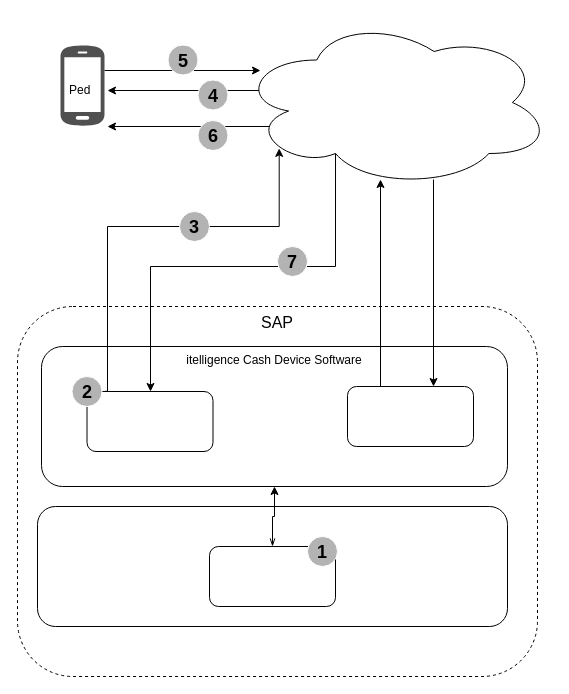
Some shapes in this 569 by 694 pixel diagram are drawn without their labels. Each missing label, with the box of its shape:
Cash: (86, 390, 213, 452)
Core SAP: (36, 506, 508, 626)
MOTO: (346, 386, 474, 446)
Payment Service: (238, 16, 552, 188)
Sales Order: (208, 546, 336, 606)
